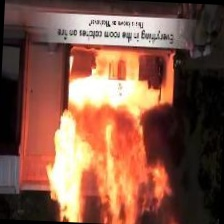fire: (35, 69, 185, 224)
